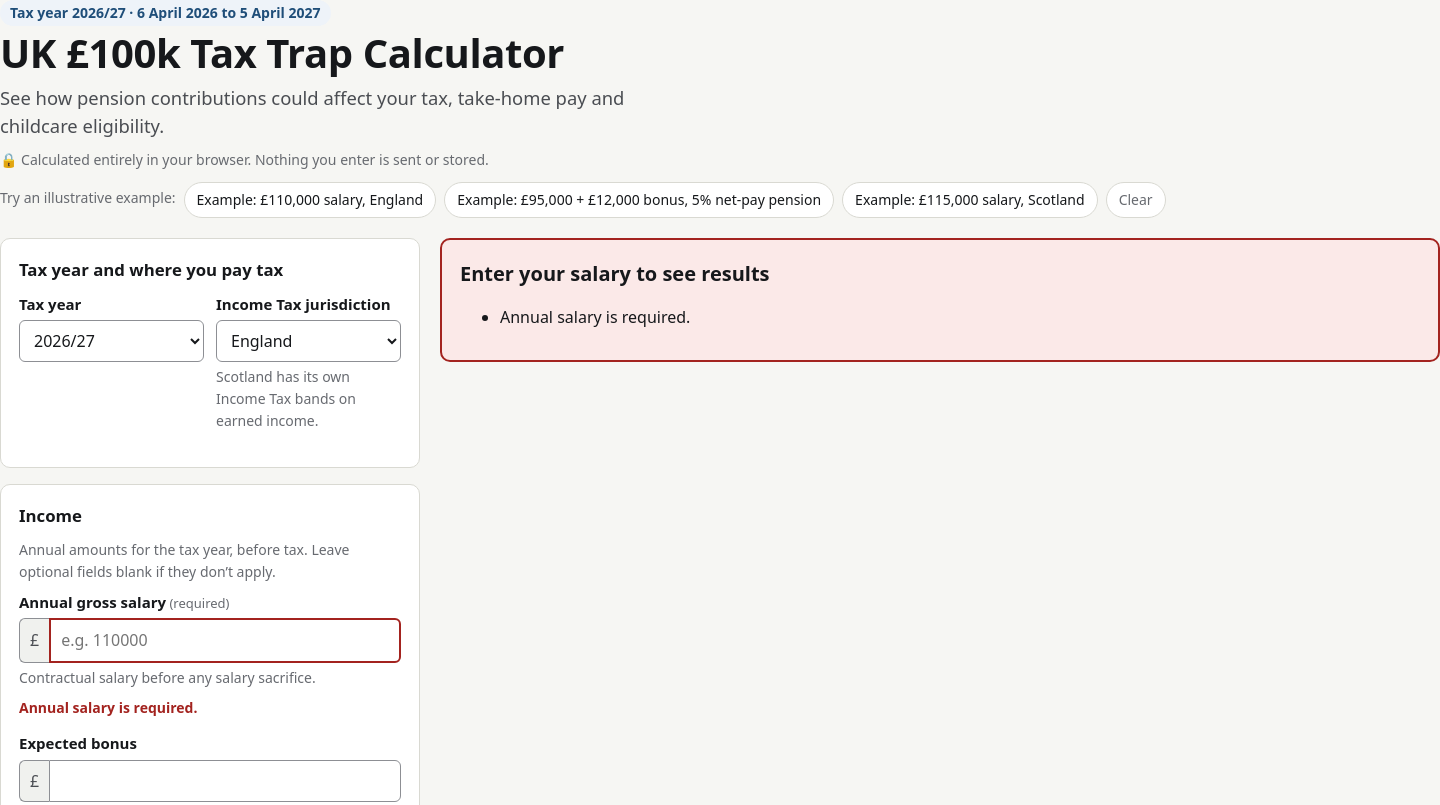
calculator UI › shows engine results after a salary is typed
Type "110000" into the field labelled "Annual gross salary (required)".
click(225, 640); type("110000")  # box top-left (49, 618), bottom-right (401, 663)
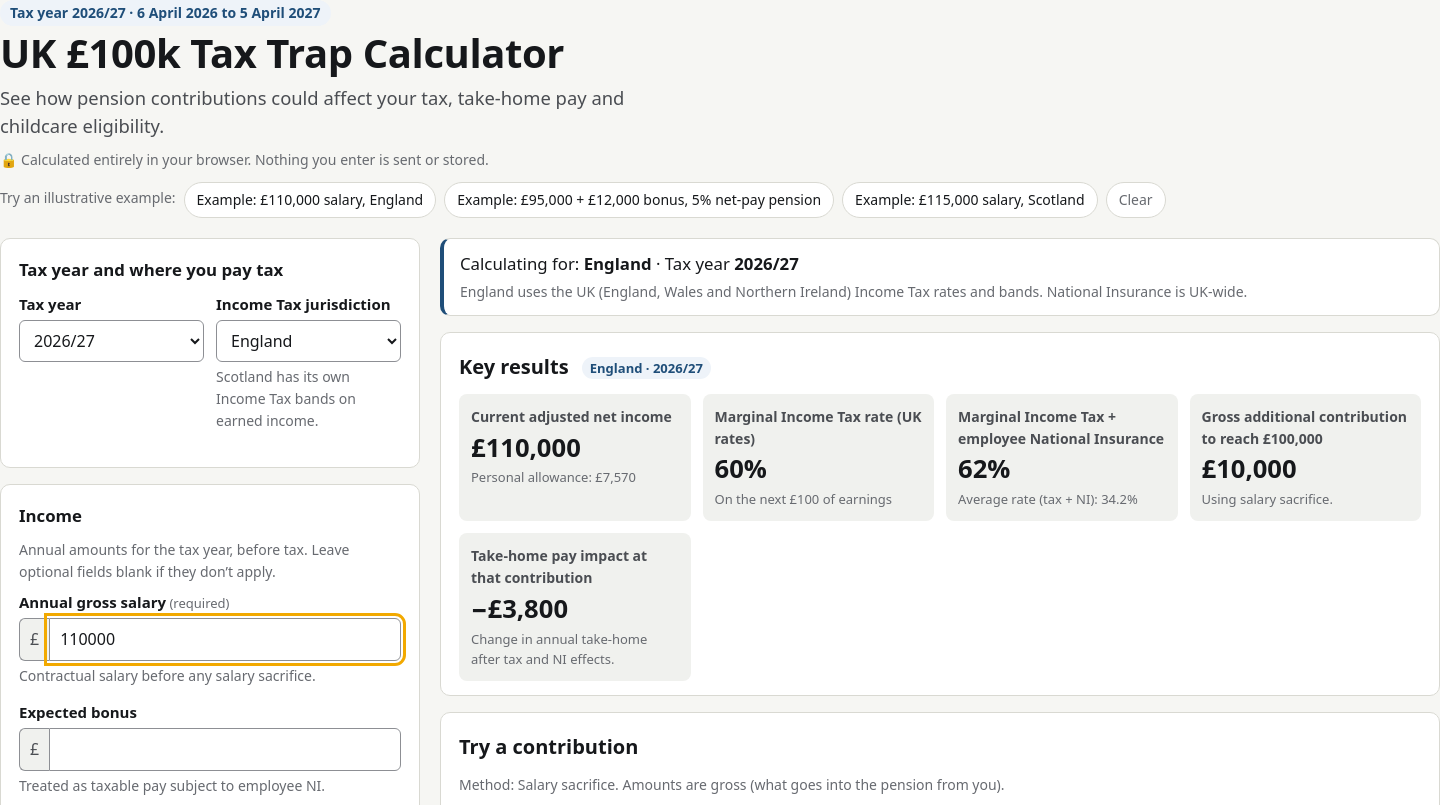
Expected: the text with test id "current-ani" reads "£110,000", top-left (471, 430), bottom-right (581, 464)
Expected: the text with test id "marginal-it" reads "60%", top-left (714, 451), bottom-right (767, 486)
Expected: the text with test id "marginal-combined" reads "62%", top-left (958, 451), bottom-right (1010, 486)
